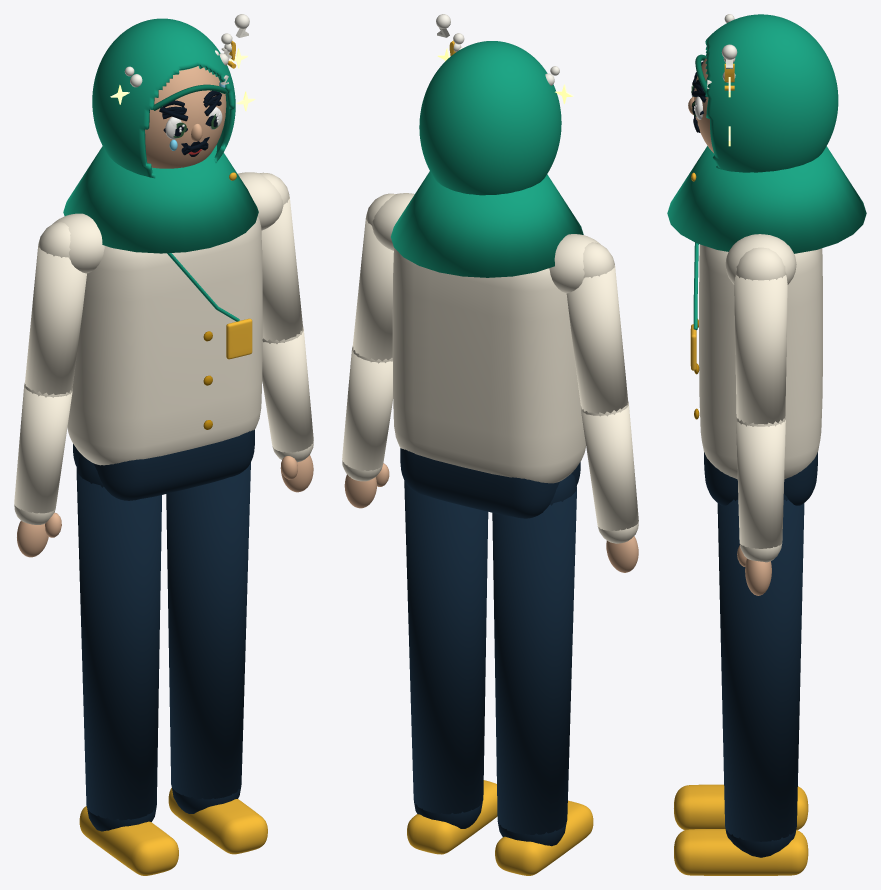
3 renders of one model, left to right at view 1: azimuth 30°, elevation 25°; view 2: azimuth 150°, elevation 25°; view 3: azimuth 270°, elevation 25°, orthographic. The views are drawn at different scales.
Visible parts, largest first — view 1: Torso, Leg -1, Leg 1, Hijab drape, Hijab, Upper arm L, Hips, Forearm L, Forearm R, Upper arm R, Skull, Shoe -1 (+9 smaller); view 2: Torso, Leg -1, Leg 1, Hijab, Hijab drape, Upper arm L, Hips, Forearm L, Forearm R, Upper arm R, Shoe -1, Shoe 1 (+7 smaller); view 3: Leg 1, Hijab, Torso, Hijab drape, Upper arm R, Forearm R, Shoe 1, Shoe -1, Hips, Shoulder 1, Upper arm R end a, Leg 1 end a (+4 smaller).
Part boxes in pixels (x1=…): Torso: x1=67, y1=216, x2=262, y2=465; Leg -1: x1=76, y1=468, x2=161, y2=820; Leg 1: x1=166, y1=462, x2=250, y2=799; Hijab drape: x1=63, y1=145, x2=258, y2=253; Hijab: x1=92, y1=18, x2=235, y2=178; Upper arm L: x1=25, y1=245, x2=86, y2=395; Hips: x1=73, y1=429, x2=254, y2=500; Forearm L: x1=14, y1=385, x2=72, y2=513; Forearm R: x1=262, y1=328, x2=313, y2=452; Upper arm R: x1=261, y1=196, x2=303, y2=341; Skull: x1=145, y1=66, x2=226, y2=168; Shoe -1: x1=79, y1=806, x2=178, y2=875; Torso: x1=392, y1=248, x2=585, y2=483; Leg -1: x1=492, y1=486, x2=576, y2=834; Leg 1: x1=404, y1=481, x2=488, y2=814; Hijab: x1=419, y1=41, x2=561, y2=195; Hijab drape: x1=391, y1=171, x2=583, y2=277; Upper arm L: x1=566, y1=265, x2=628, y2=413; Hips: x1=400, y1=448, x2=580, y2=518; Forearm L: x1=581, y1=404, x2=638, y2=530; Forearm R: x1=342, y1=348, x2=392, y2=470; Upper arm R: x1=352, y1=216, x2=393, y2=361; Shoe -1: x1=495, y1=800, x2=593, y2=875; Shoe 1: x1=407, y1=780, x2=497, y2=854; Leg 1: x1=717, y1=499, x2=804, y2=841; Hijab: x1=705, y1=14, x2=838, y2=172; Torso: x1=699, y1=244, x2=822, y2=479; Hijab drape: x1=667, y1=146, x2=866, y2=253; Upper arm R: x1=734, y1=275, x2=787, y2=424; Forearm R: x1=736, y1=419, x2=785, y2=548; Shoe 1: x1=674, y1=829, x2=808, y2=875; Shoe -1: x1=674, y1=784, x2=808, y2=830; Hips: x1=704, y1=452, x2=817, y2=505; Shoulder 1: x1=725, y1=234, x2=796, y2=284; Upper arm R end a: x1=735, y1=247, x2=786, y2=280; Leg 1 end a: x1=725, y1=828, x2=796, y2=857.
Size of the model in its own units: 0.6944 by 1.85 by 0.4.
